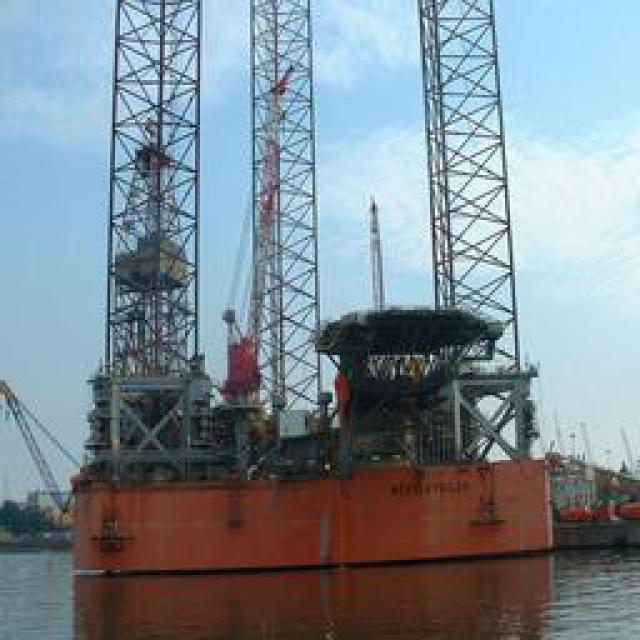Ship: (67, 225, 567, 580)
